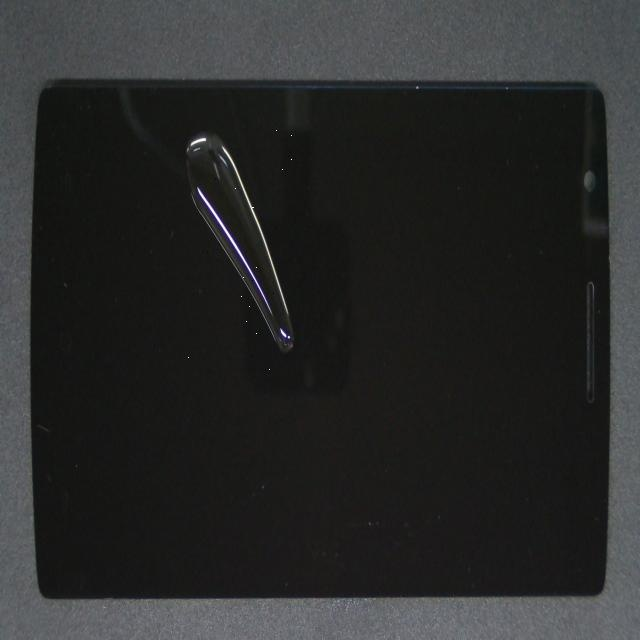oil: (118, 57, 304, 196)
